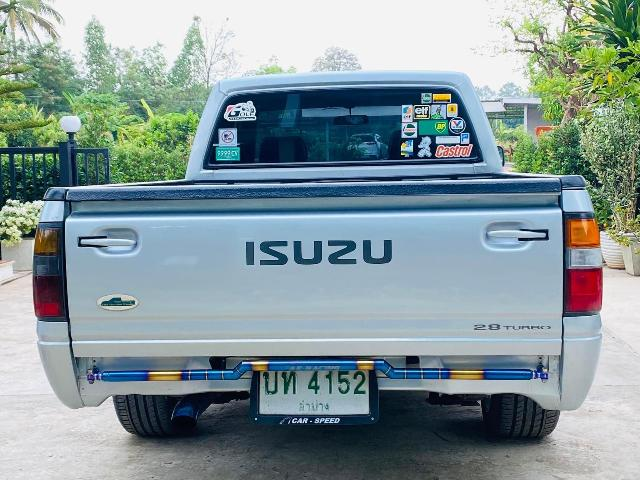pickup-truck: (21, 59, 610, 457)
